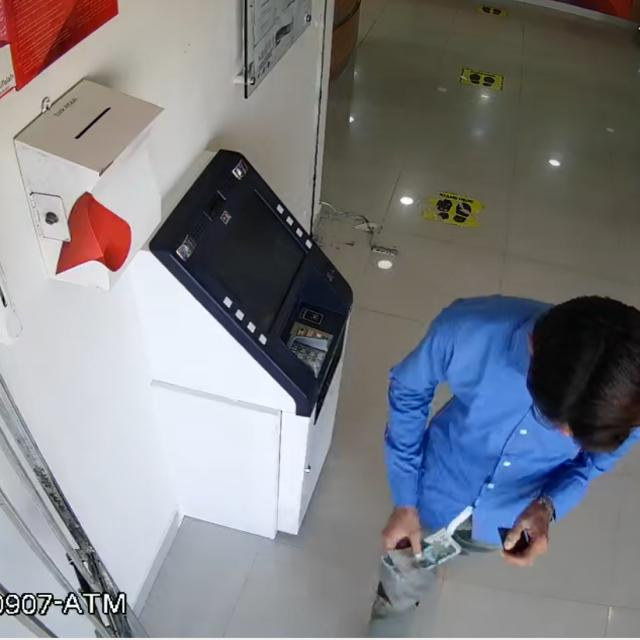note: (370, 523, 471, 591)
